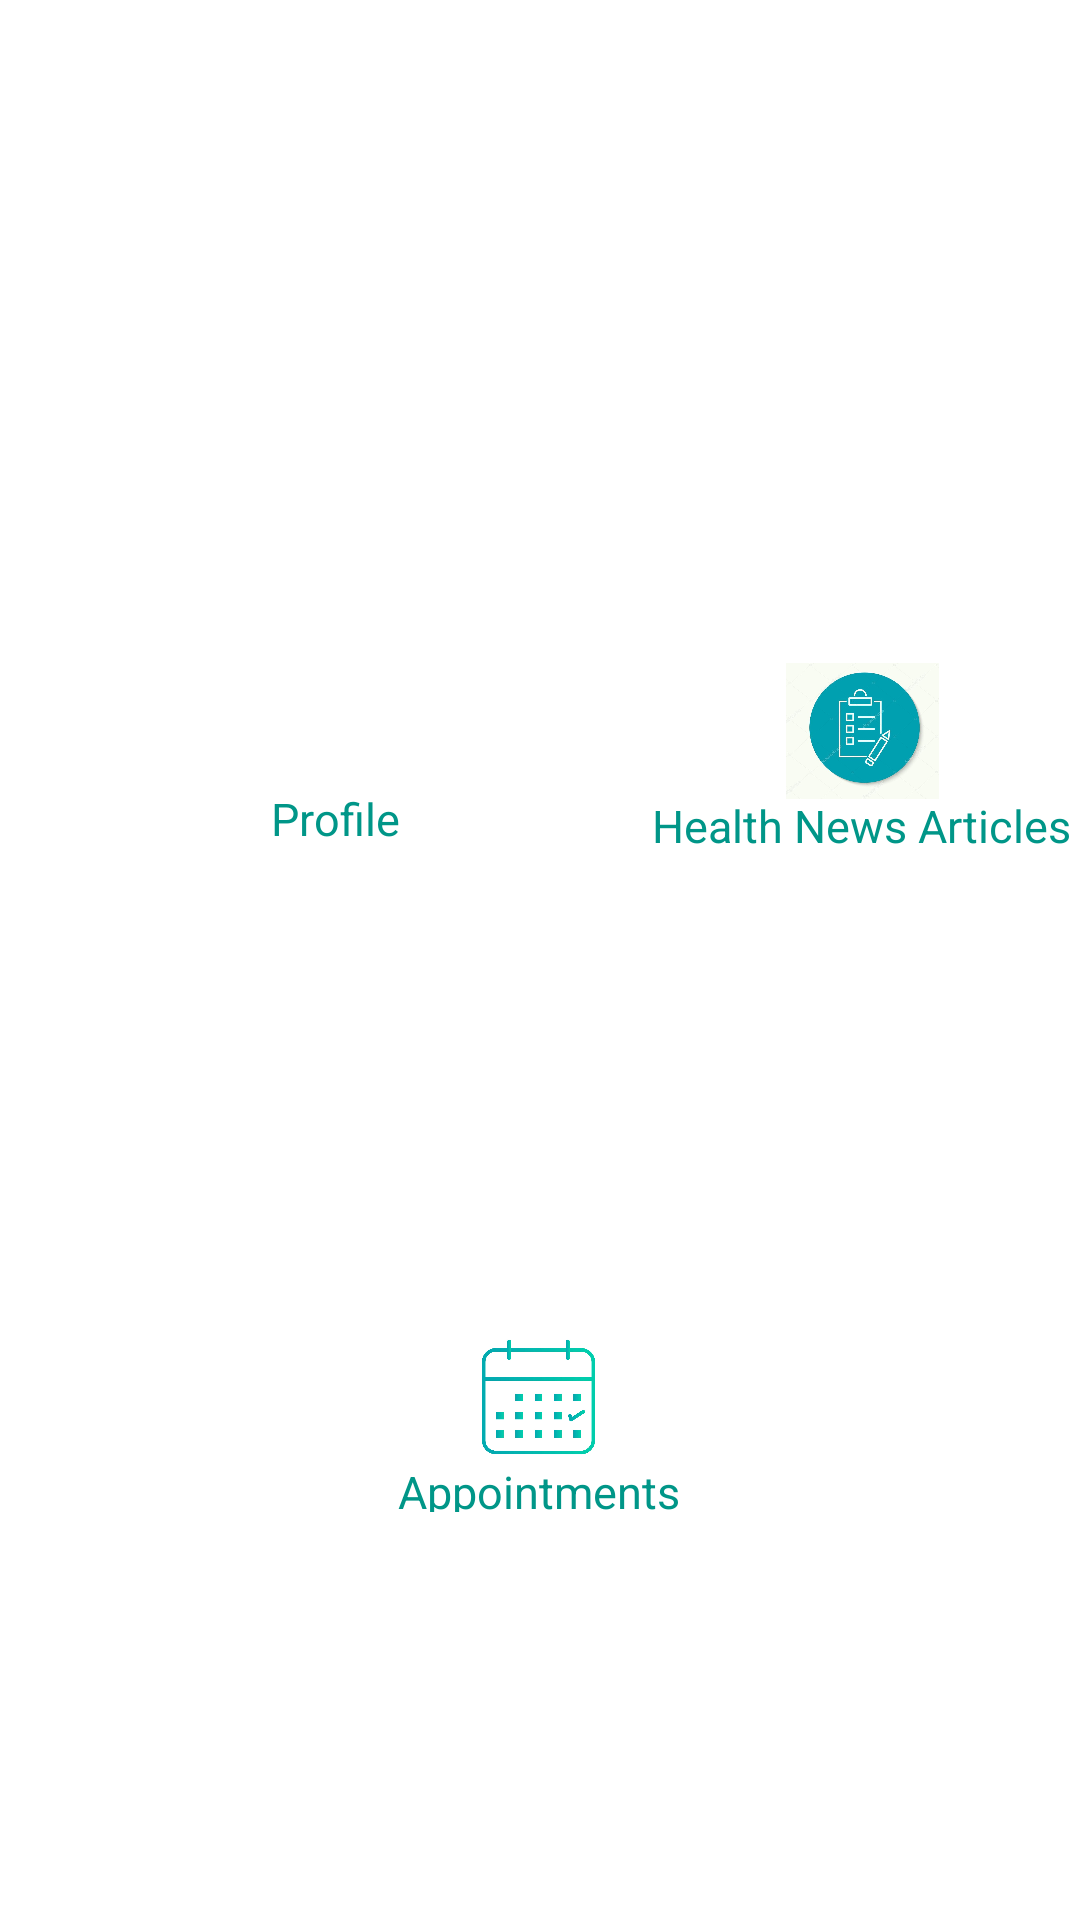

Screen size 1080px×1920px. Icon name, then its center in pixels as point (x, y):
Patient Request: point (866, 725)
